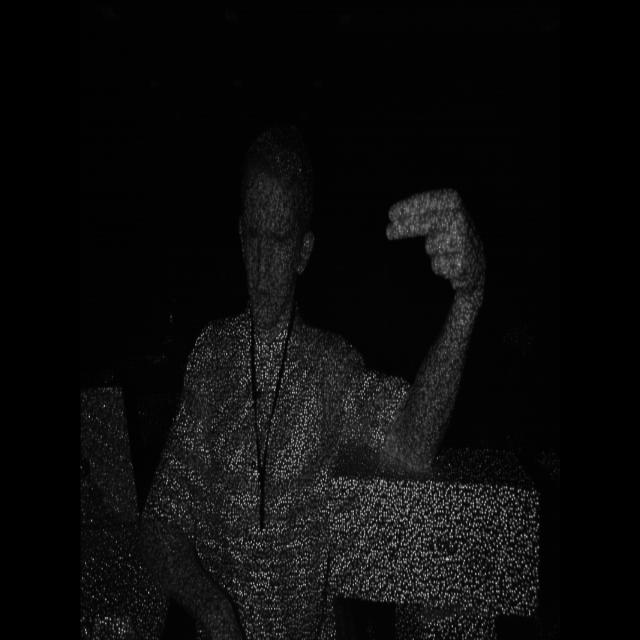H: (378, 172, 495, 332)
